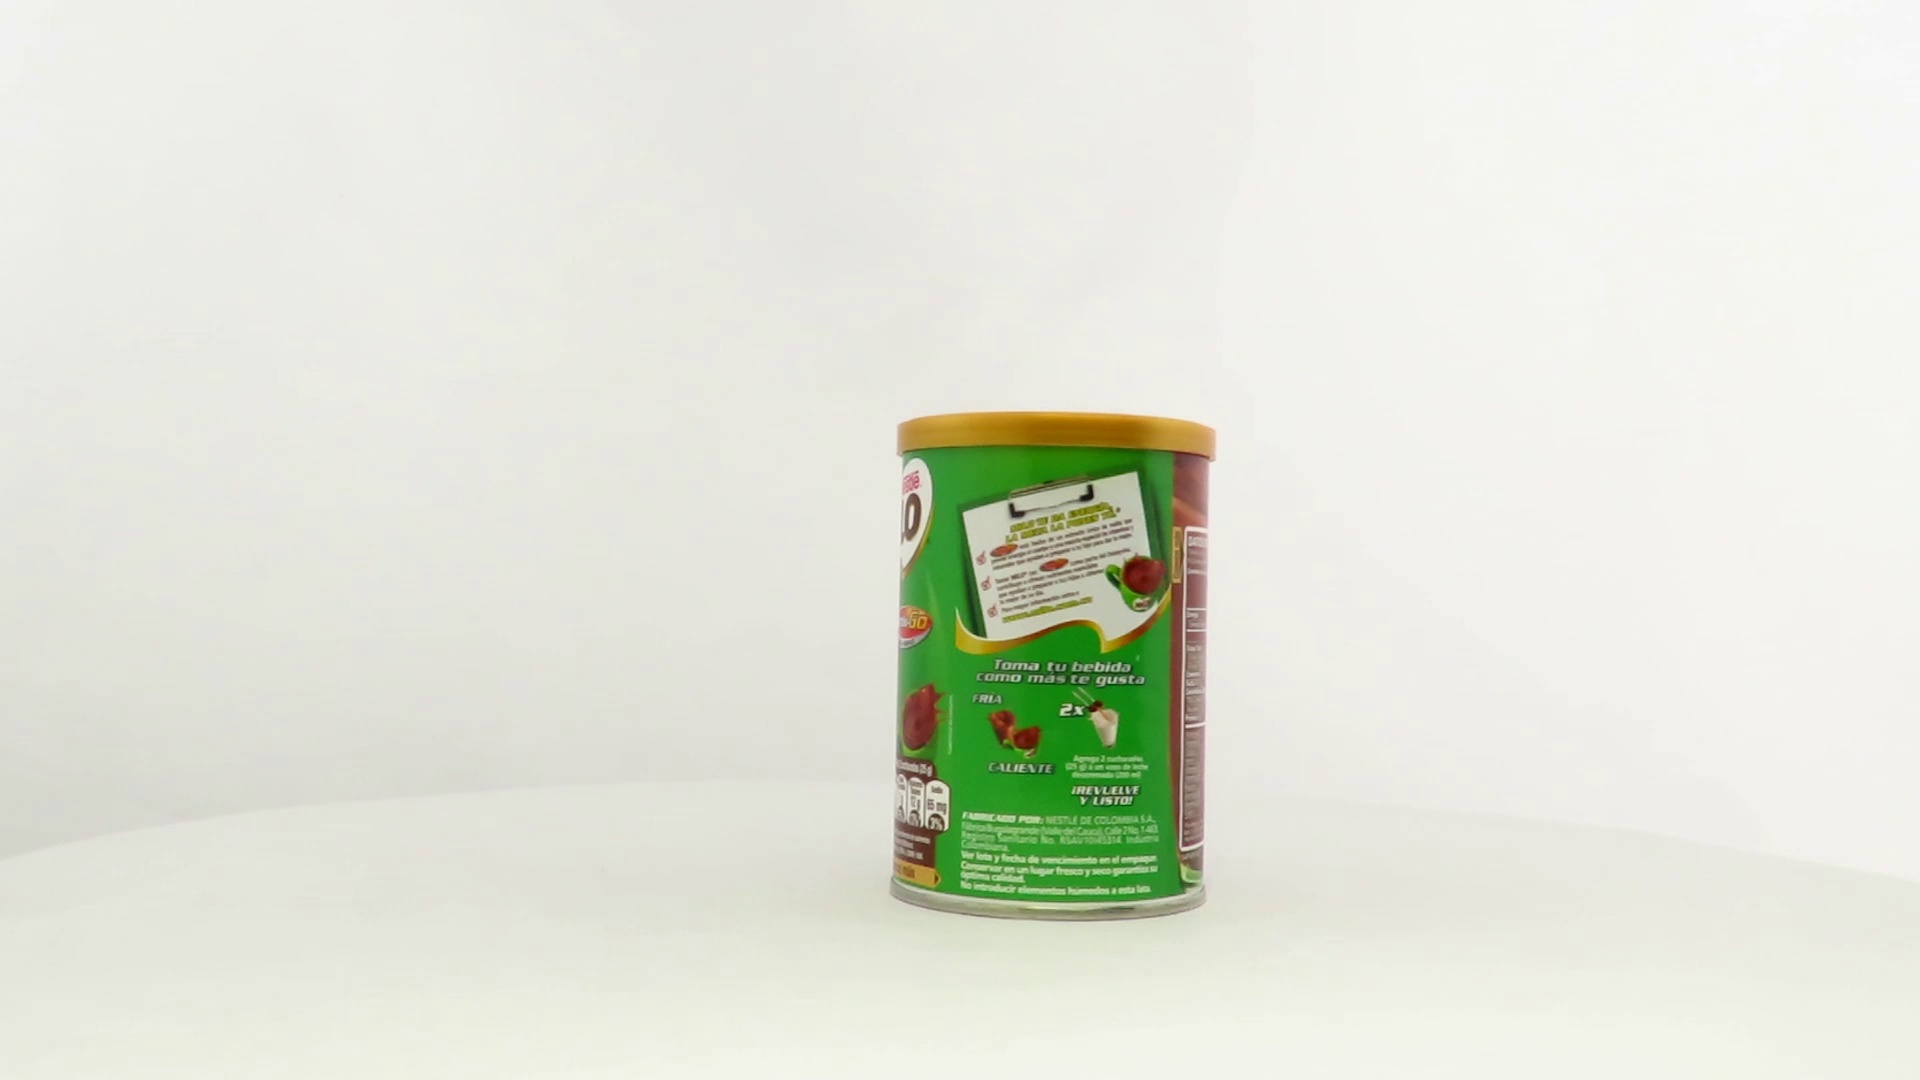COL0170203LAT20000: (884, 406, 1222, 928)
